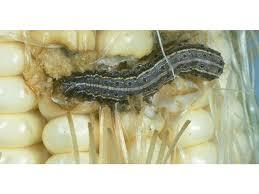fallarmy_worm: (42, 42, 230, 108)
